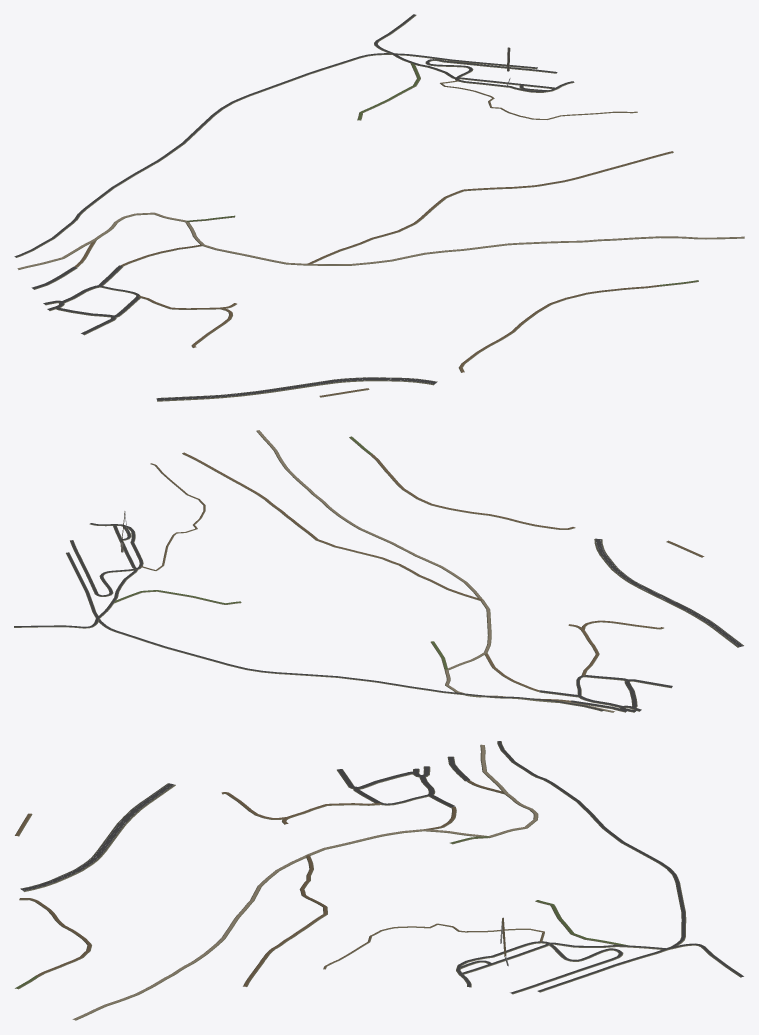
The picture shows the model from 3 angles, top to bottom: view 1: azimuth 30°, elevation 25°; view 2: azimuth 150°, elevation 25°; view 3: azimuth 270°, elevation 25°; orthographic projection. The views are drawn at different scales.
Parts seen in each view (by area): view 1: roads; view 2: roads; view 3: roads.
Boxes of the visible parts, bbox=[...] form: roads: bbox=[14, 14, 744, 401]; roads: bbox=[14, 430, 743, 712]; roads: bbox=[15, 741, 743, 1020].
Bounding box in the file's own units: 809 × 176 × 806.
